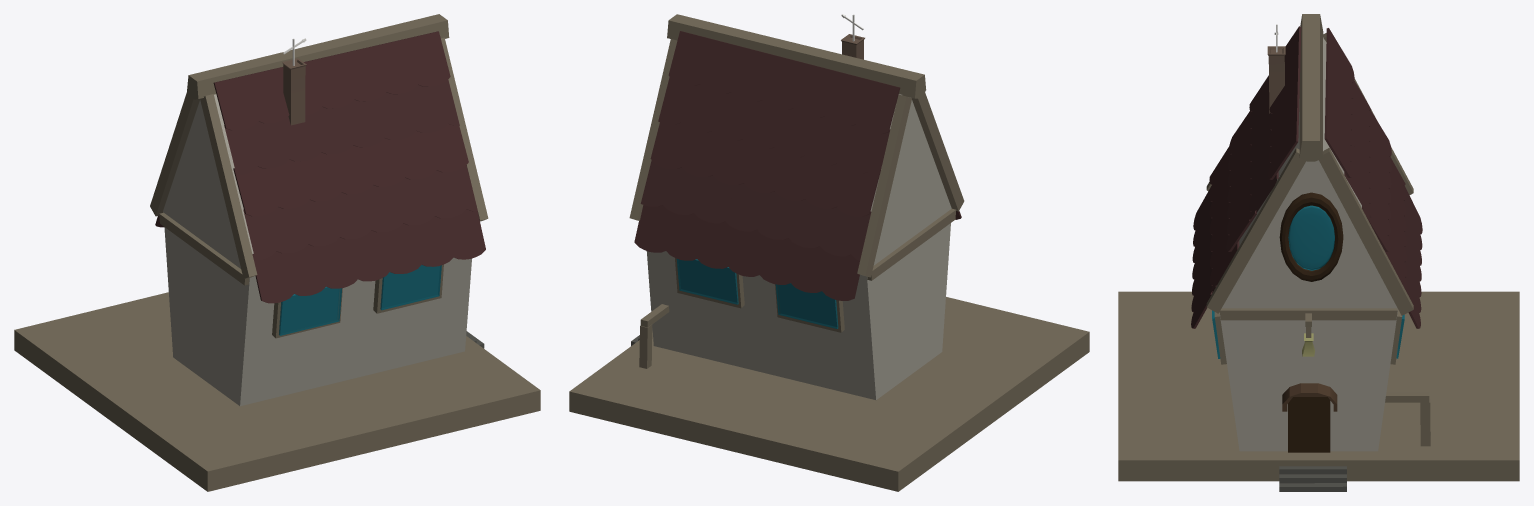
The model's file is Bird_NPC_house.fbx.
3 renders of one model, left to right at view 1: azimuth 30°, elevation 25°; view 2: azimuth 150°, elevation 25°; view 3: azimuth 270°, elevation 25°, orthographic. The views are drawn at different scales.
Visible parts, largest first — view 1: polySurface358, pPlane16, pCube1, pCube10, pCube20, pCube29, pCube30, pCube21, pCube5, pCube4, pCube19; view 2: polySurface356, pPlane16, pCube1, pCube10, pCube21, pCube31, pCube32, pCube20, pCube22, pCube19; view 3: pPlane16, pCube1, polySurface358, polySurface356, pCube10, pCube22, pCube4, pCube33, pCube23, pCube13, pTorus1, pPlane17 (+4 smaller).
Part boxes in pixels (x1=…): polySurface358: x1=213, y1=31, x2=485, y2=303; pPlane16: x1=14, y1=292, x2=540, y2=491; pCube1: x1=163, y1=94, x2=471, y2=406; pCube10: x1=187, y1=14, x2=449, y2=99; pCube20: x1=200, y1=94, x2=257, y2=278; pCube29: x1=279, y1=286, x2=342, y2=335; pCube30: x1=380, y1=265, x2=441, y2=310; pCube21: x1=150, y1=91, x2=199, y2=216; pCube5: x1=282, y1=58, x2=306, y2=125; pCube4: x1=441, y1=37, x2=488, y2=221; pCube19: x1=159, y1=212, x2=249, y2=285; polySurface356: x1=634, y1=31, x2=900, y2=300; pPlane16: x1=569, y1=297, x2=1089, y2=491; pCube1: x1=646, y1=94, x2=951, y2=399; pCube10: x1=667, y1=14, x2=926, y2=98; pCube21: x1=857, y1=94, x2=911, y2=277; pCube31: x1=676, y1=259, x2=738, y2=304; pCube32: x1=775, y1=283, x2=838, y2=328; pCube20: x1=912, y1=92, x2=964, y2=211; pCube22: x1=629, y1=39, x2=677, y2=220; pCube19: x1=867, y1=208, x2=956, y2=280; pPlane16: x1=1118, y1=291, x2=1519, y2=481; pCube1: x1=1219, y1=37, x2=1397, y2=451; polySurface358: x1=1191, y1=26, x2=1301, y2=328; polySurface356: x1=1324, y1=28, x2=1422, y2=328; pCube10: x1=1299, y1=14, x2=1323, y2=161; pCube22: x1=1319, y1=147, x2=1413, y2=315; pCube4: x1=1206, y1=148, x2=1306, y2=313; pCube33: x1=1288, y1=205, x2=1334, y2=270; pCube23: x1=1288, y1=397, x2=1330, y2=452; pCube13: x1=1219, y1=308, x2=1397, y2=320; pTorus1: x1=1279, y1=192, x2=1343, y2=281; pPlane17: x1=1279, y1=466, x2=1346, y2=491.
Bounding box in the file's own units: 16.41 × 15.83 × 15.54.
